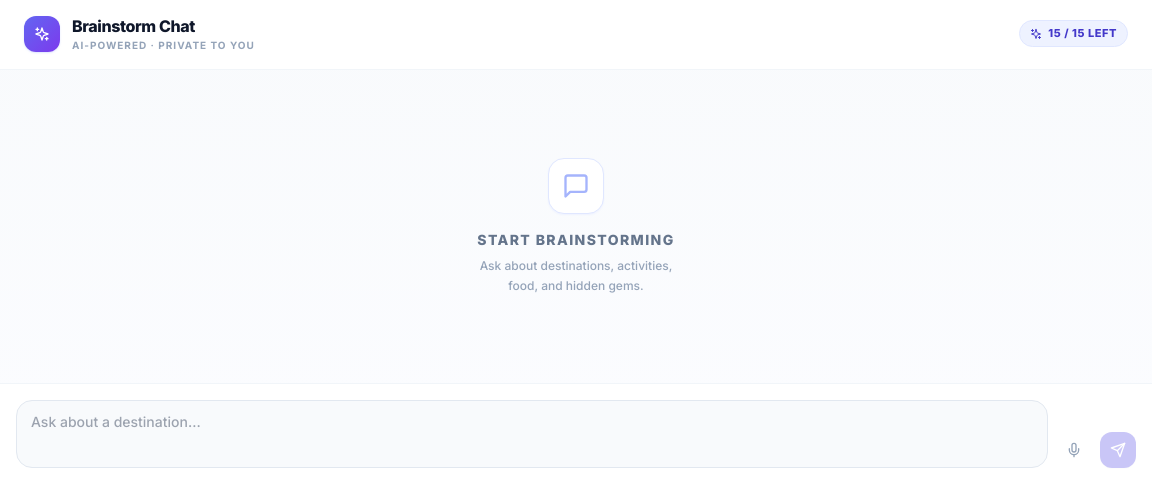
Test: BrainstormChat — failed message › shows an error bubble when the AI response fails
Expected: the text "Start brainstorming" is shown, [476,230,676,250]
Type "Will this fail?" into the text box at (532, 434), box [16,400,1048,468]
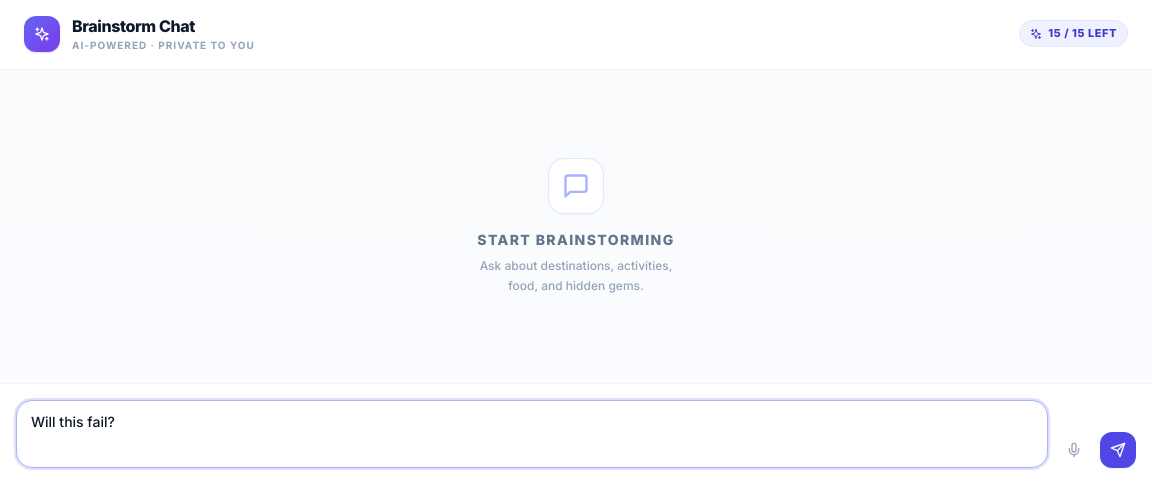
Click the button named "Send message" at (1118, 450), box [1100,432,1136,468]
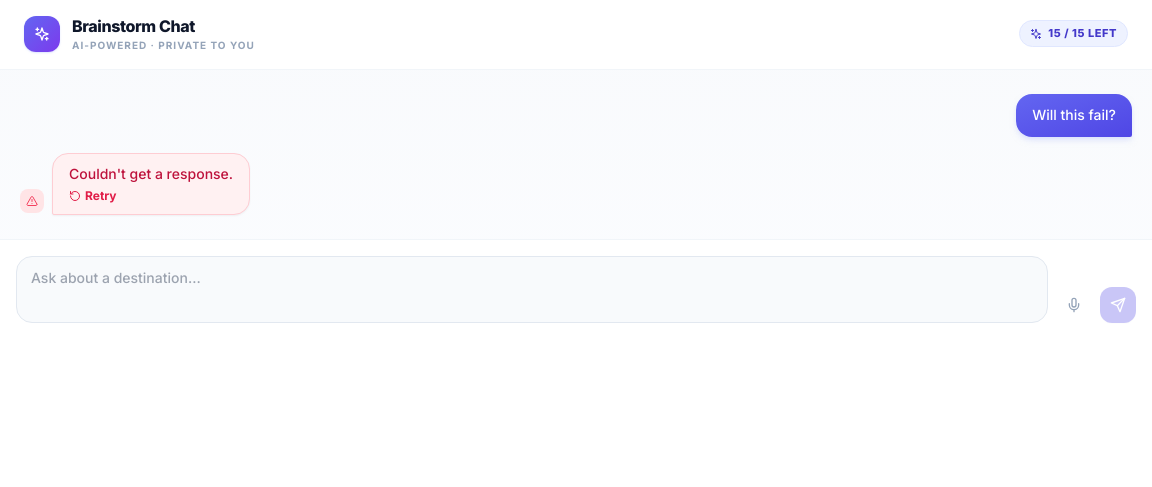
Now the text "Couldn't get a response." is shown, box [69,164,233,184]
